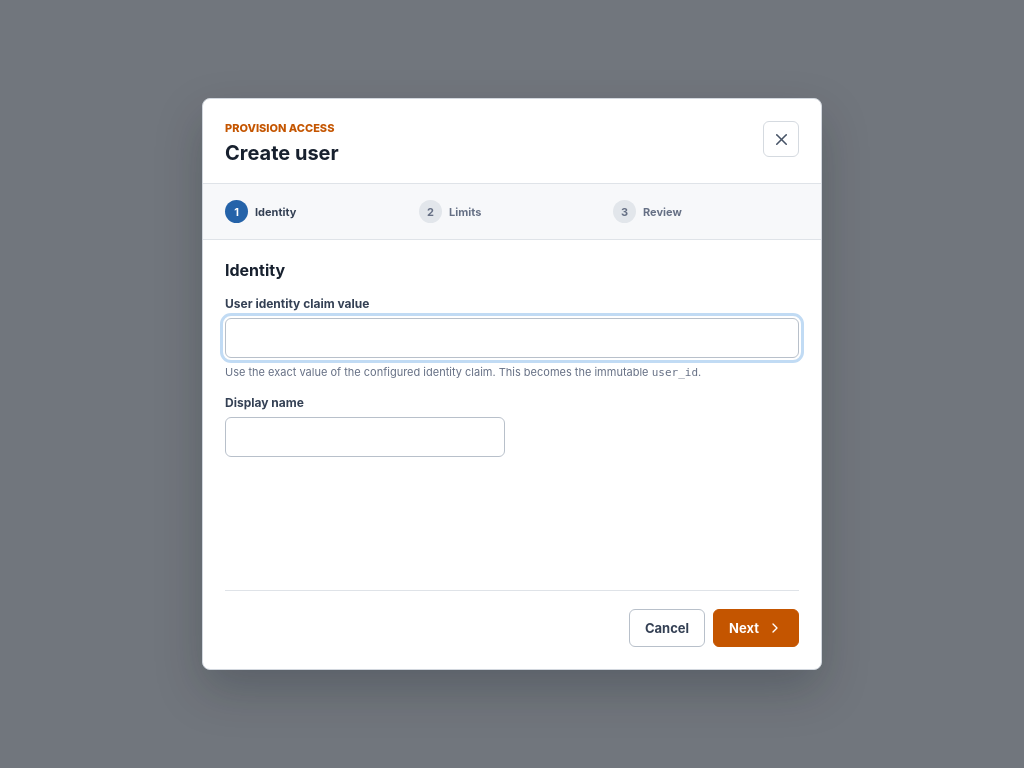
Test: create user wizard › does not allow every calendar period to be disabled
This screenshot has width=1024, height=768.
In the field labelled "User identity claim value": (512, 338) 225,318 -> 799,358, type "tenant/unbounded"
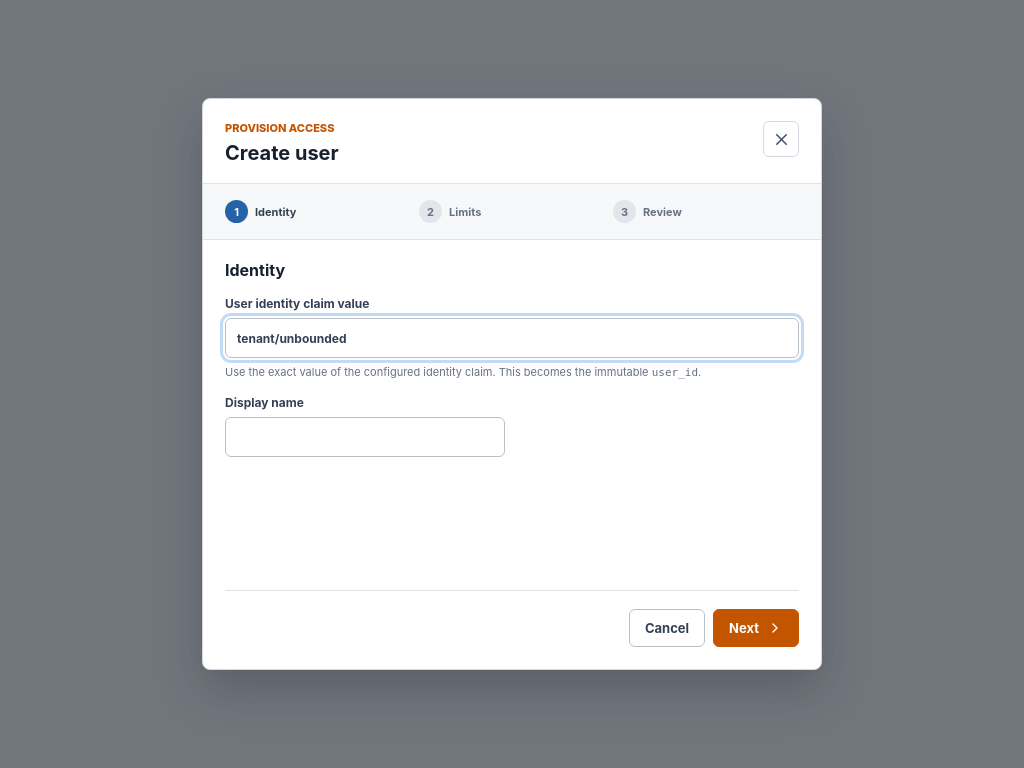
In the field labelled "Display name": (365, 437) 225,417 -> 505,457, type "Unbounded"
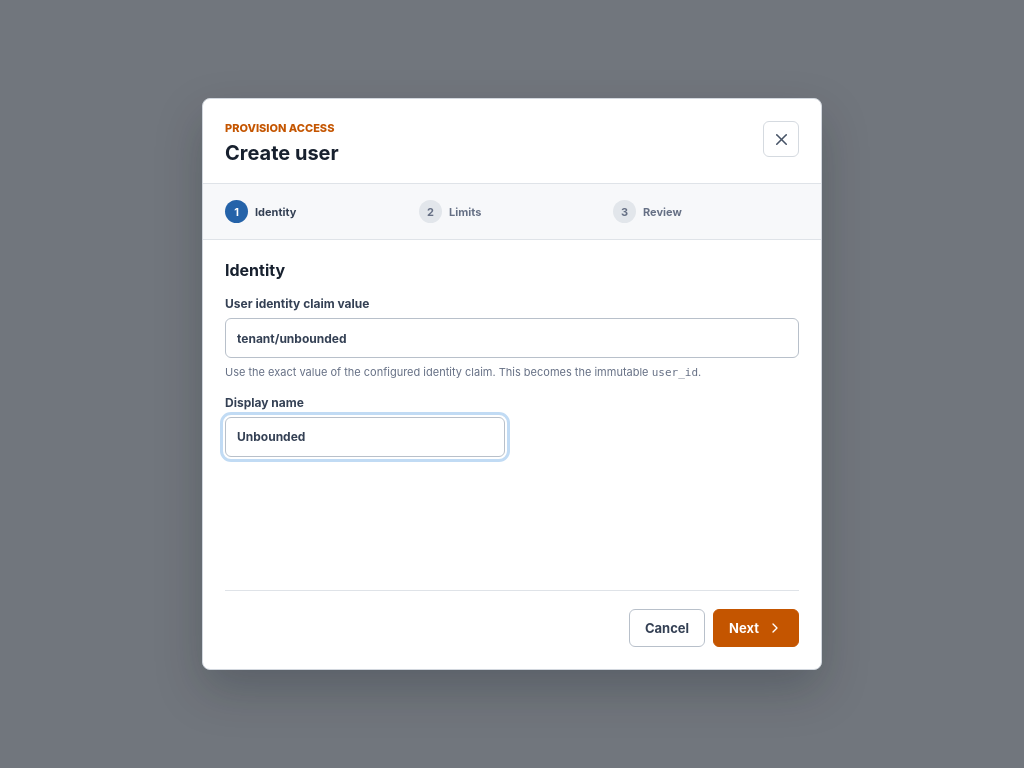
Click the button "Next": click(756, 628) 713,609 -> 799,647
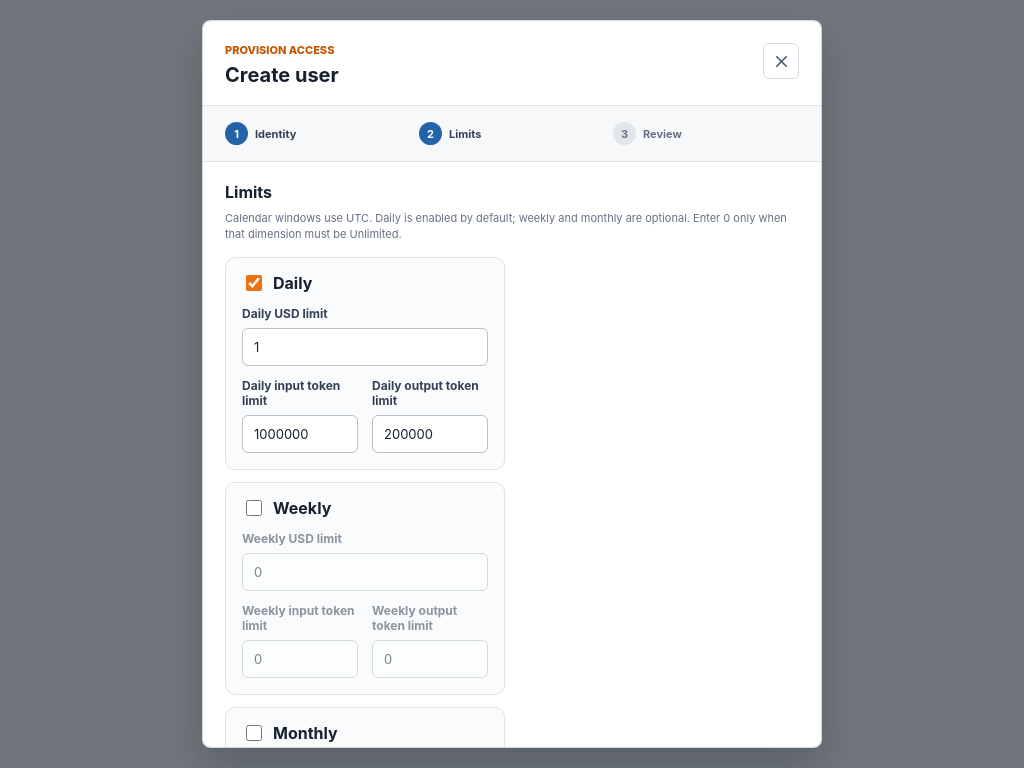
Click the checkbox labelled "Daily": click(254, 283) 246,275 -> 262,291
(page scrolled)
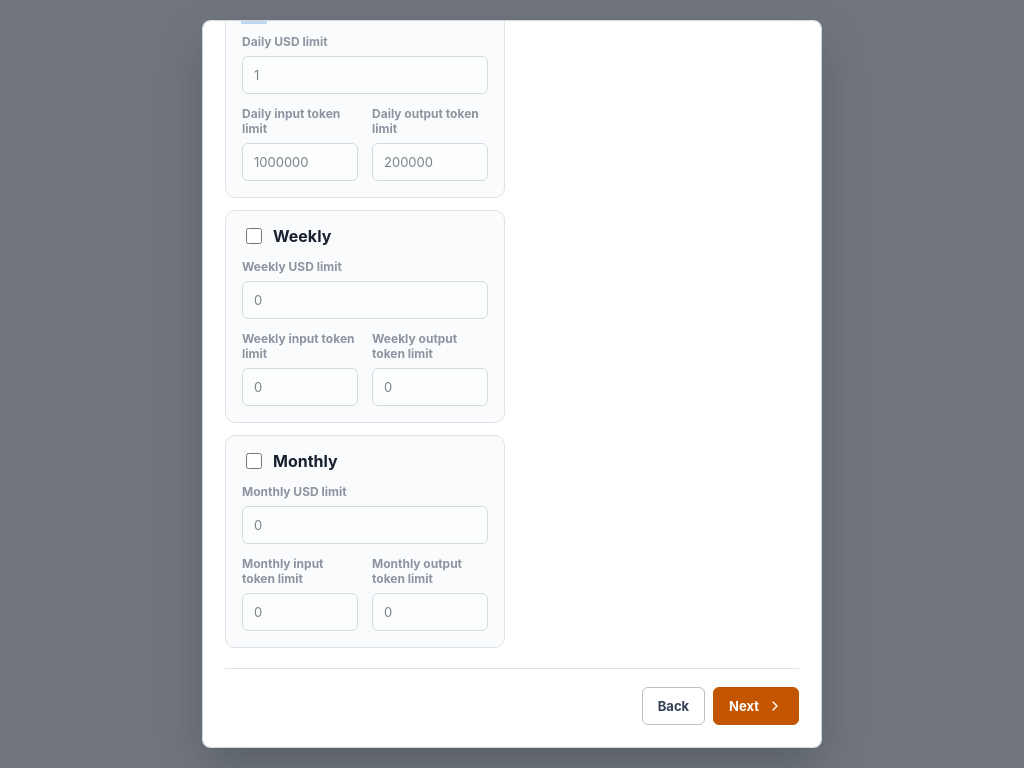
Click the button "Next": click(756, 706) 713,687 -> 799,725
(page scrolled)
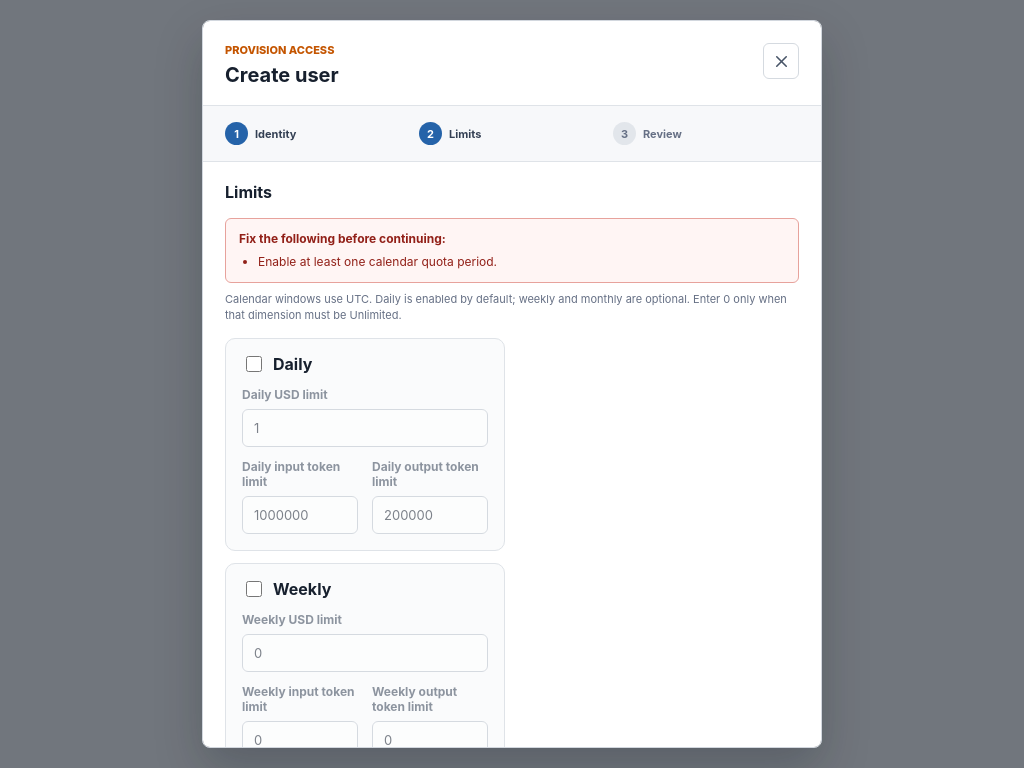
Expected: the message named "Create user errors" shows "Enable at least one calendar quota period", 258,254 -> 497,269
